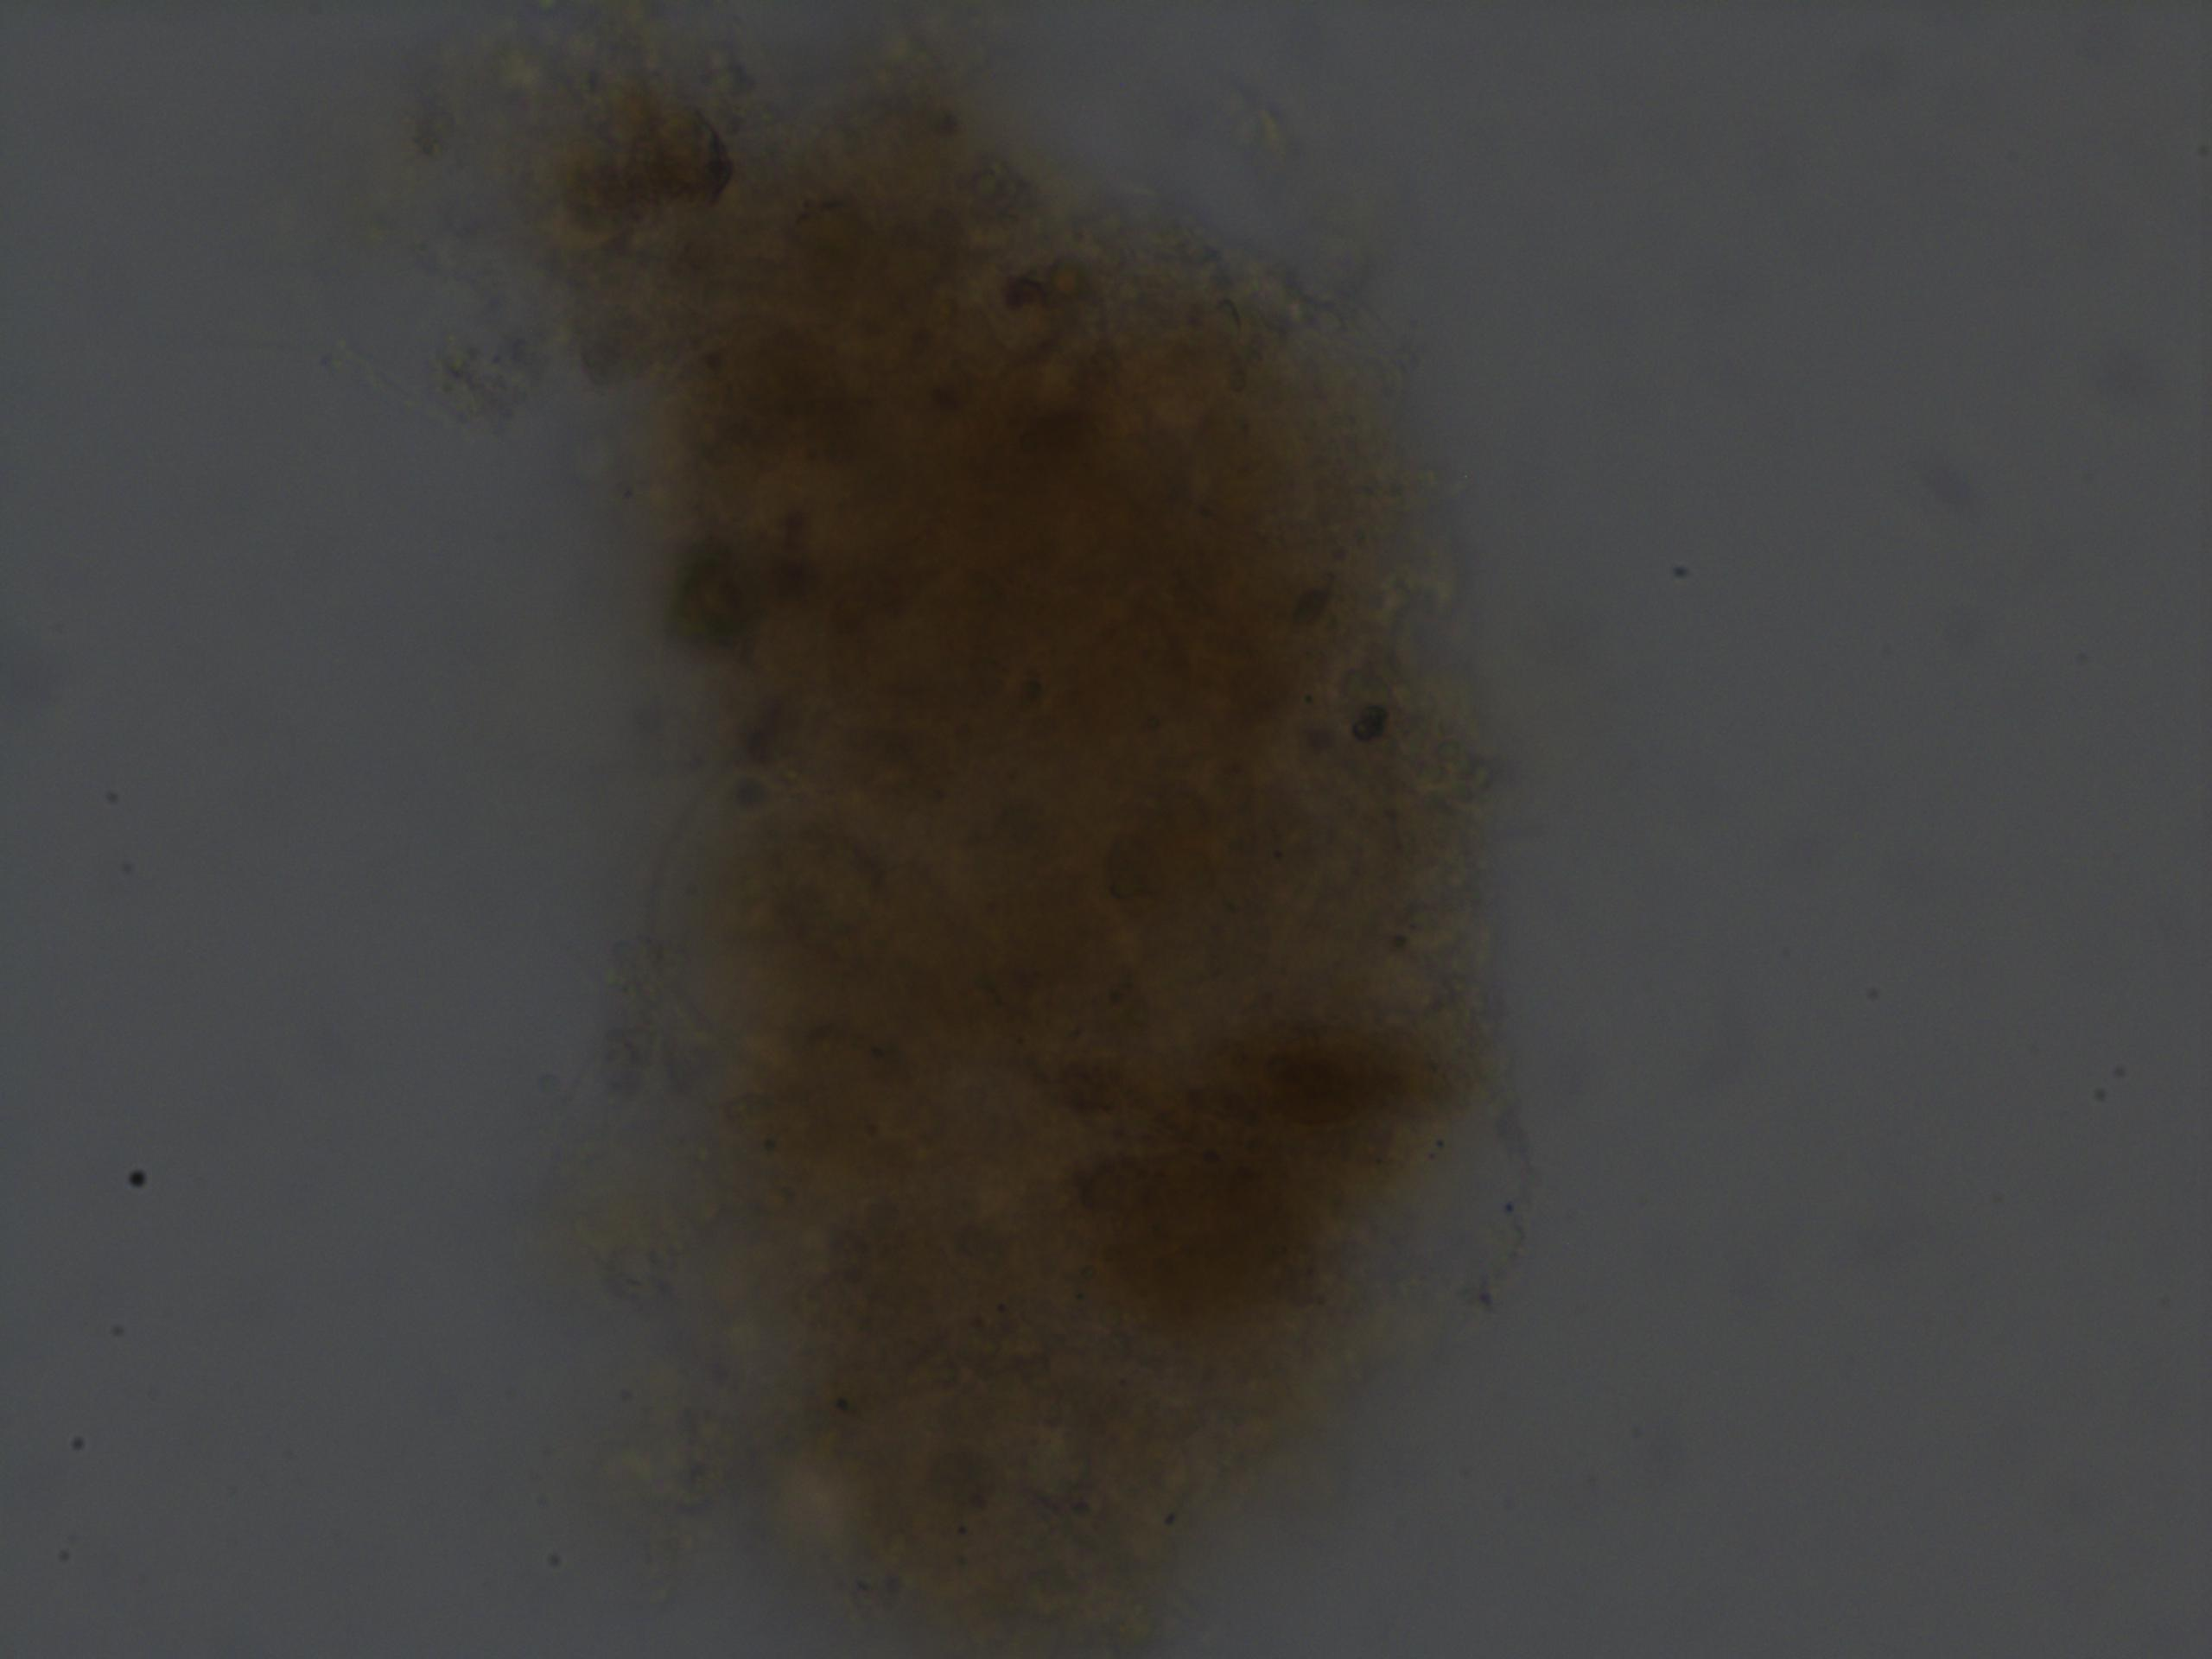spherical_floc: (526, 49, 1510, 1659)
